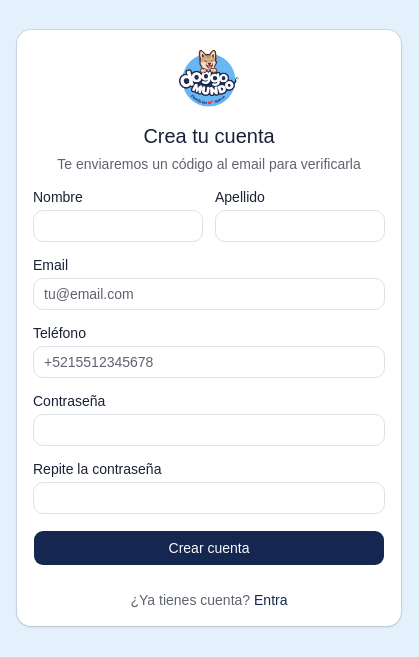
Scenario: RegisterPage — client validation › rejects a password shorter than 8 chars
Type "Vale" into the field labelled "Nombre".
click(118, 226); type("Vale")  # box [33,210,203,242]
Type "Pérez" into the field labelled "Apellido".
click(300, 226); type("Pérez")  # box [215,210,385,242]
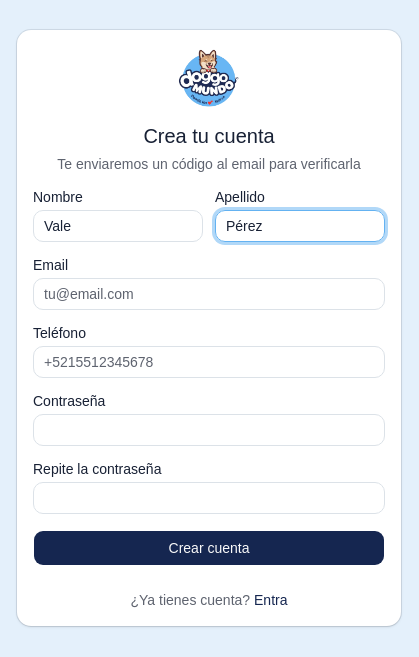
Type "v@example.com" into the field labelled "Email".
click(209, 294); type("v@example.com")  # box [33,278,385,310]
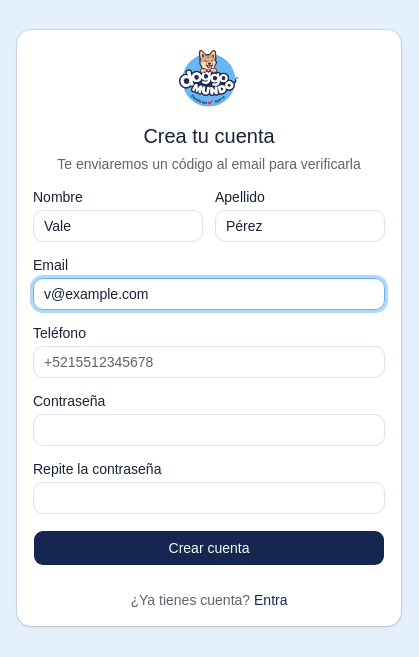
Type "+525512345678" into the field labelled "Teléfono".
click(209, 362); type("+525512345678")  # box [33,346,385,378]
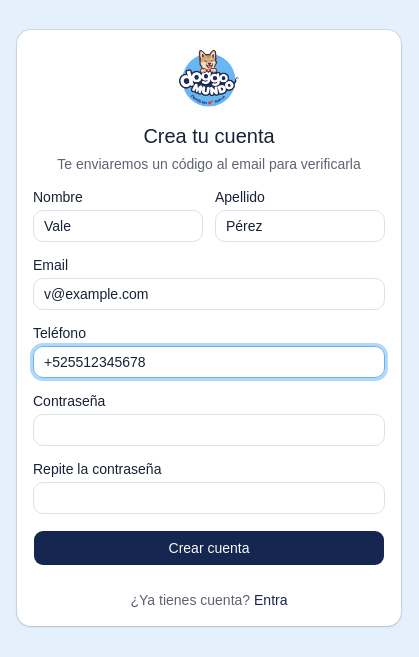
Type "short" into the password field labelled "Contraseña".
click(209, 430); type("short")  # box [33,414,385,446]
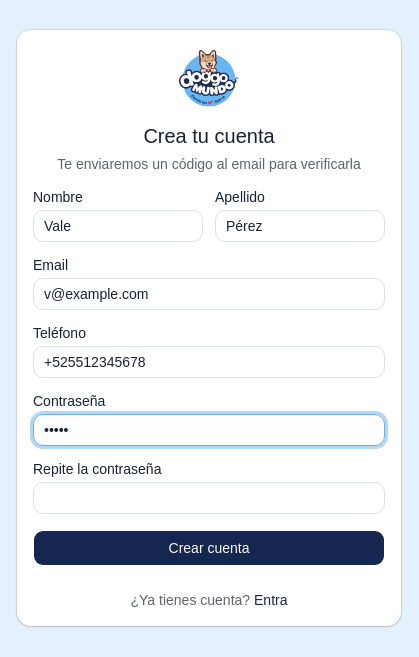
Type "short" into the password field labelled "Repite la contraseña".
click(209, 498); type("short")  # box [33,482,385,514]
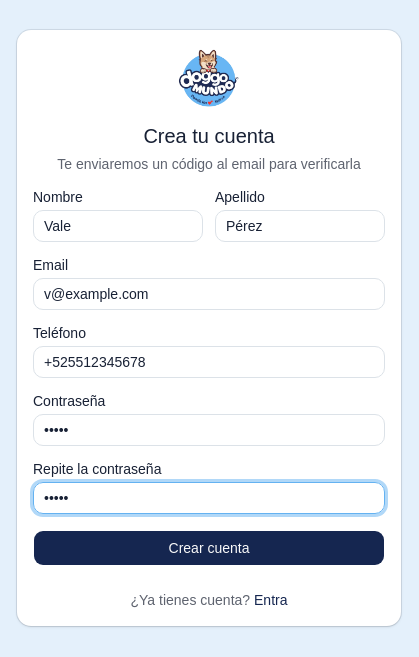
Click the button "Crear cuenta".
click(209, 548)  # box [33,530,385,566]
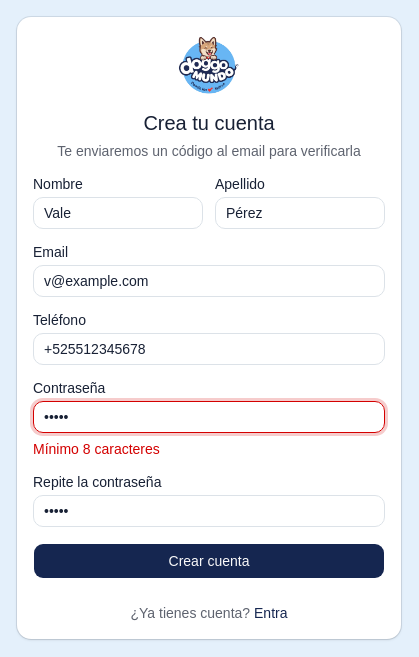
Expected: the text "Mínimo 8 caracteres" is shown, [33,441,160,457]
